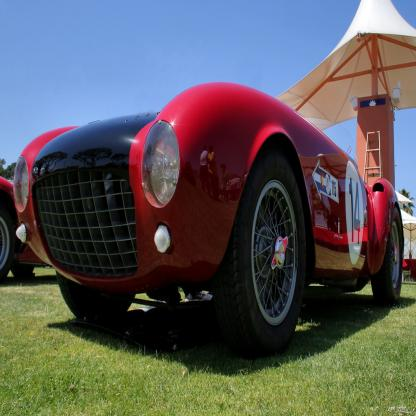Car: (14, 82, 405, 361), (1, 175, 55, 280)
